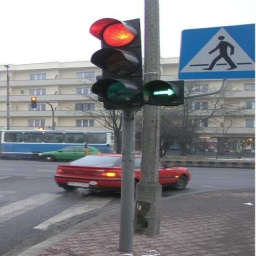traffic light: (90, 16, 184, 110)
